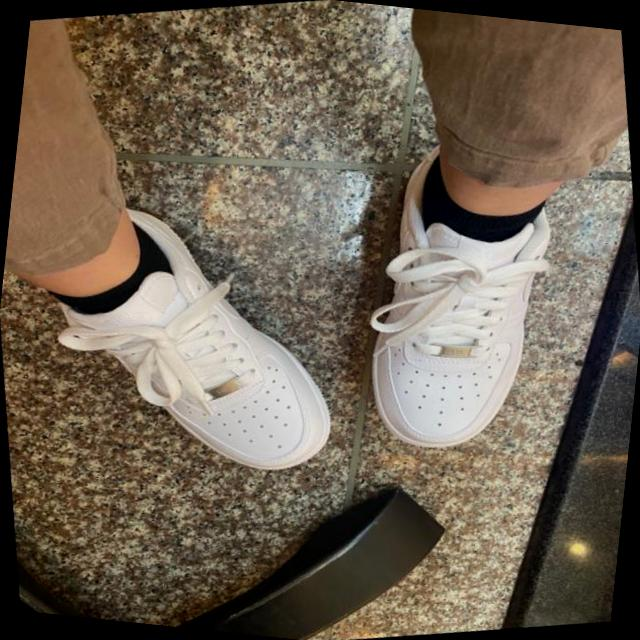nike_original_airforce: (308, 100, 606, 470), (17, 208, 363, 515)
